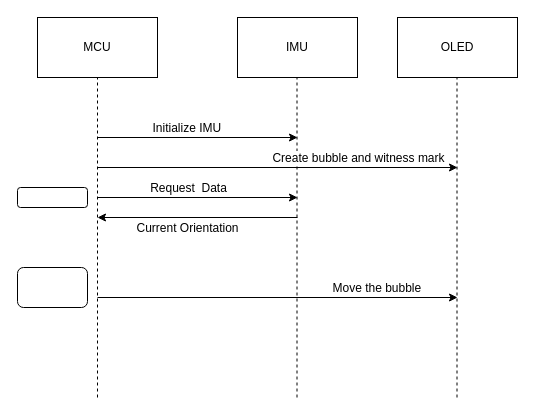
This 535x416 diagram has some shape labels left out. Here are the shapes that lost their labels. From the top down, the centre of each, then its label:
At [52,197]: "Read IMU".
At [52,287]: "Update Bubble Position".
